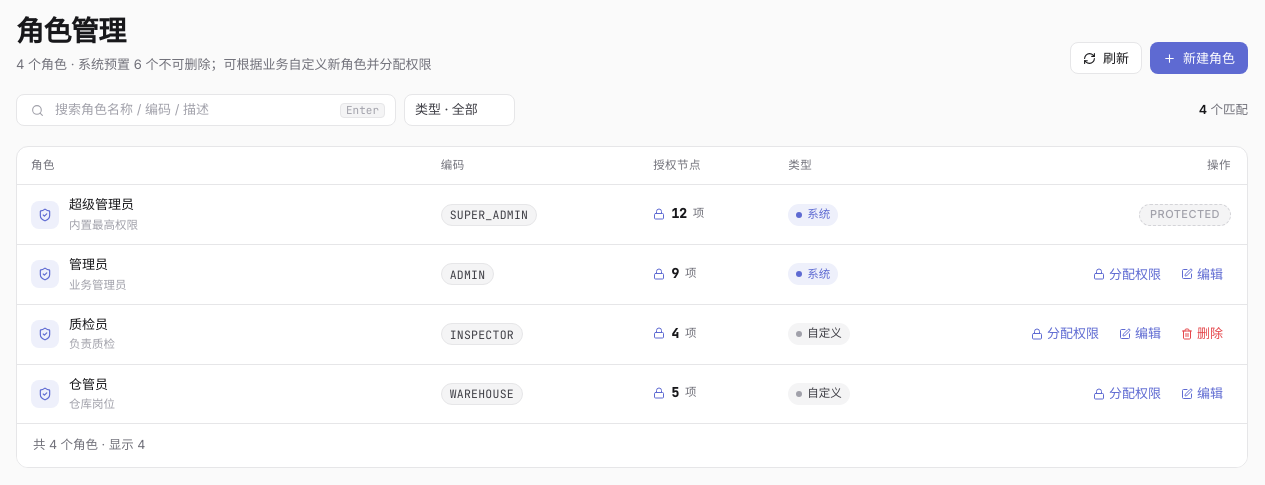
RoleList smoke › filters role list by keyword on filter chips and updates count
In the field with test id "role-filter-keyword": (194, 110) [55,100,332,120], type "仓管"
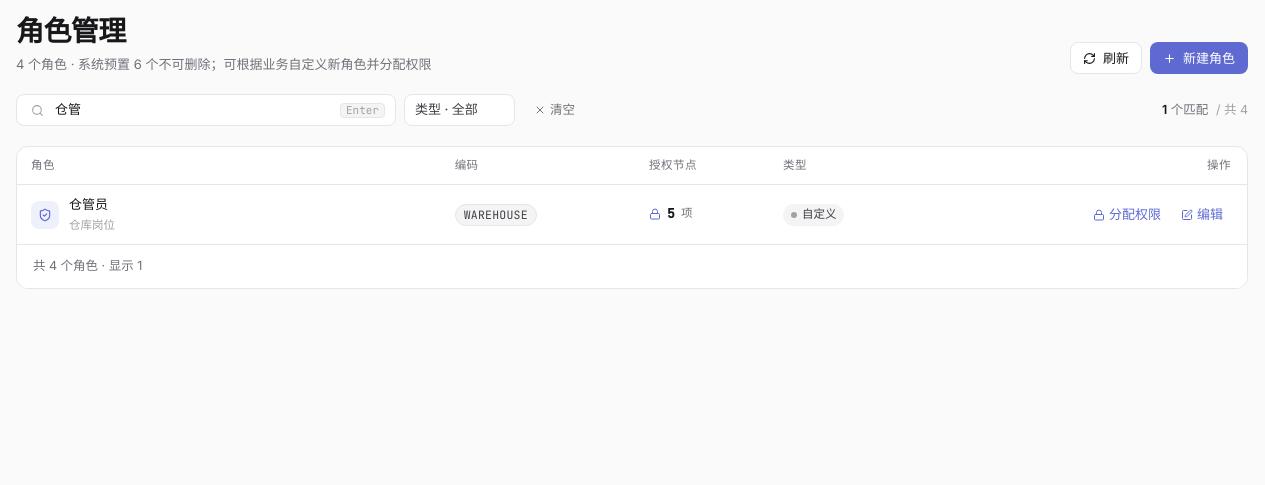
Expected: the row with test id "role-table-row" shows "仓管员", [69,196,108,212]
Now the number of rows with test id "role-table-row" is 1, box [17,185,1247,244]
Now the element with test id "role-filter-count" shows "1", box [1162,102,1167,117]
